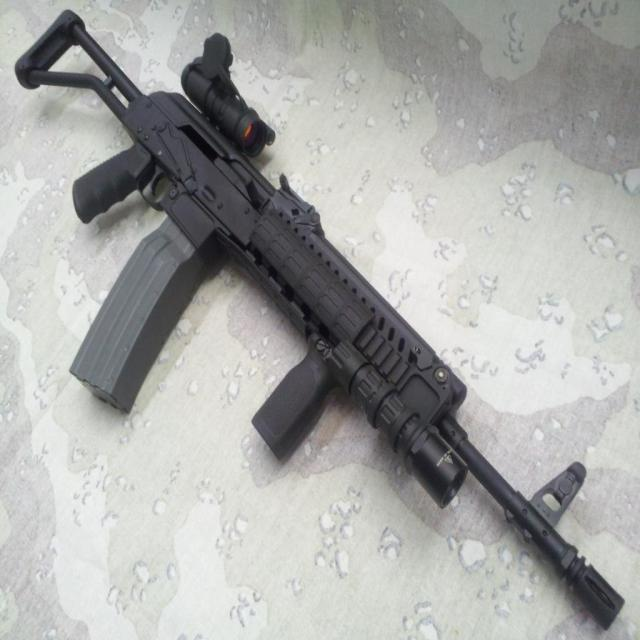firearm: (13, 4, 627, 634)
